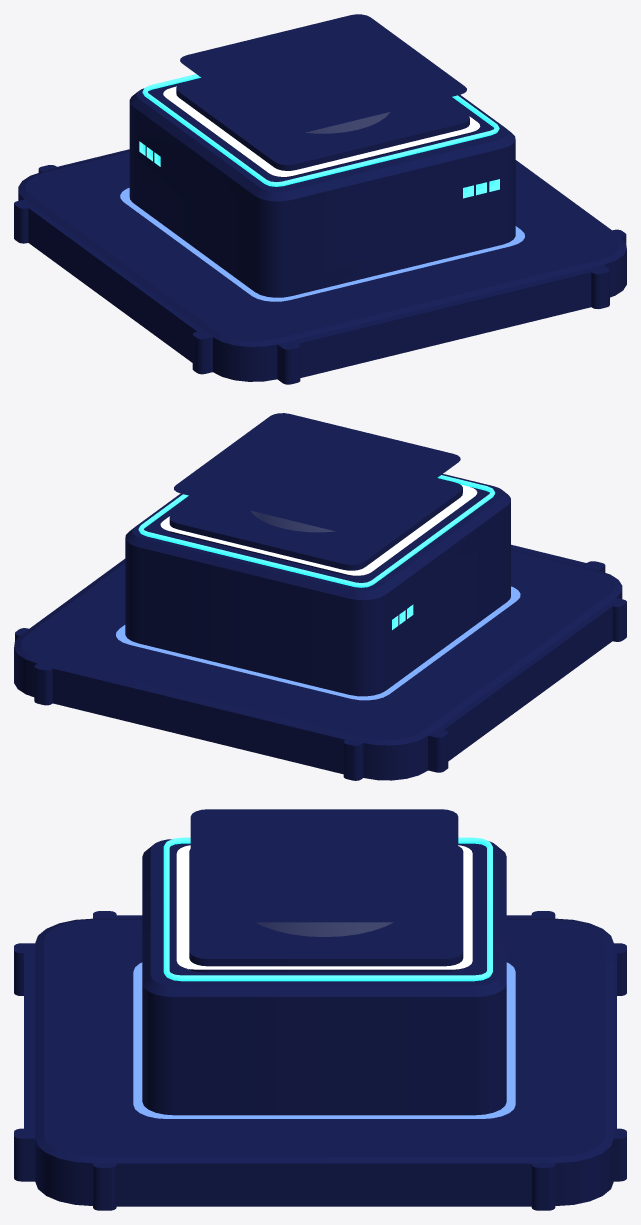
The model's file is The_mystery_cityblend31.glb.
3 renders of one model, top to bottom at view 1: azimuth 30°, elevation 25°; view 2: azimuth 150°, elevation 25°; view 3: azimuth 270°, elevation 25°, orthographic. The views are drawn at different scales.
Visible parts, largest first — view 1: Main_platform.001, Main_platform, Platform1, Cube.001, Main_platform.005, Cube.003, Plane.002, Main_platform.007, Main_platform.008, Main_platform.002; view 2: Main_platform.001, Main_platform, Platform1, Cube.002, Main_platform.005, Cube.003, Plane.002, Main_platform.008, Main_platform.007, Main_platform.002, Cube.001; view 3: Main_platform, Main_platform.001, Platform1, Cube.004, Main_platform.005, Main_platform.008, Plane.002, Main_platform.007, Cube.001, Cube.002, Main_platform.002, Cube.003.
Part boxes in pixels (bbox=[...]): Main_platform.001: bbox=[129, 77, 515, 297]; Main_platform: bbox=[18, 150, 626, 381]; Platform1: bbox=[180, 14, 466, 135]; Cube.001: bbox=[277, 265, 609, 384]; Main_platform.005: bbox=[176, 78, 469, 177]; Cube.003: bbox=[14, 199, 212, 374]; Plane.002: bbox=[142, 74, 499, 186]; Main_platform.007: bbox=[163, 86, 480, 176]; Main_platform.008: bbox=[120, 188, 524, 301]; Main_platform.002: bbox=[306, 112, 389, 133]; Main_platform.001: bbox=[125, 474, 510, 696]; Main_platform: bbox=[14, 549, 622, 780]; Platform1: bbox=[174, 413, 460, 534]; Cube.002: bbox=[34, 663, 363, 780]; Main_platform.005: bbox=[169, 478, 462, 576]; Cube.003: bbox=[428, 598, 626, 772]; Plane.002: bbox=[138, 475, 494, 587]; Main_platform.008: bbox=[116, 586, 520, 700]; Main_platform.007: bbox=[160, 484, 477, 575]; Main_platform.002: bbox=[251, 511, 333, 531]; Cube.001: bbox=[511, 544, 605, 572]; Main_platform: bbox=[35, 918, 613, 1205]; Main_platform.001: bbox=[142, 839, 506, 1115]; Platform1: bbox=[190, 809, 458, 922]; Cube.004: bbox=[93, 1163, 555, 1210]; Main_platform.005: bbox=[189, 846, 463, 972]; Main_platform.008: bbox=[133, 962, 515, 1118]; Plane.002: bbox=[163, 837, 492, 981]; Main_platform.007: bbox=[176, 845, 472, 969]; Cube.001: bbox=[14, 943, 35, 1181]; Cube.002: bbox=[614, 943, 626, 1181]; Main_platform.002: bbox=[257, 922, 392, 936]; Cube.003: bbox=[93, 911, 555, 918].
Size of what is drawn, in the model's own units: 8.3 by 3.3 by 8.37.
